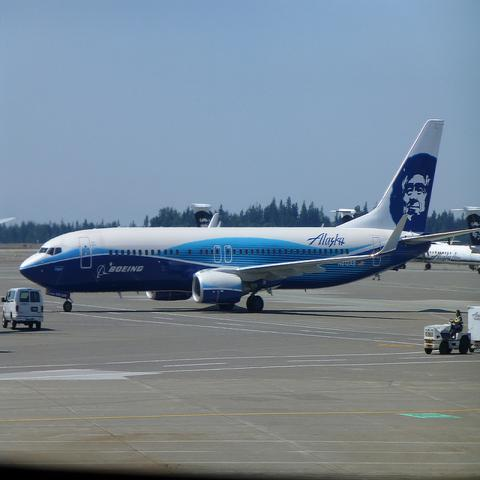truck: (2, 286, 42, 330)
